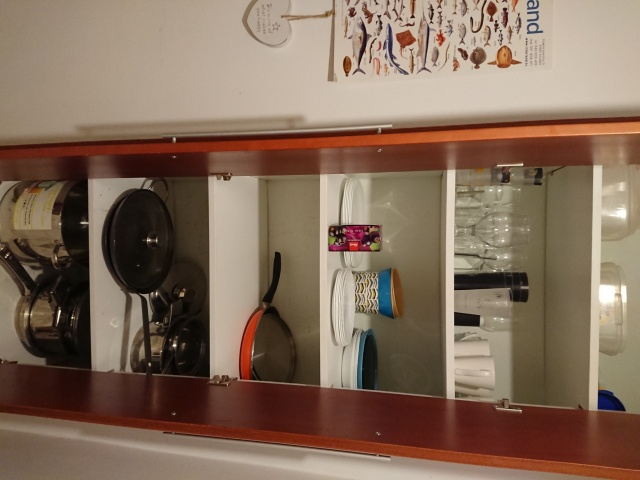Franck Black Currant Tea 60g: (325, 222, 384, 254)
